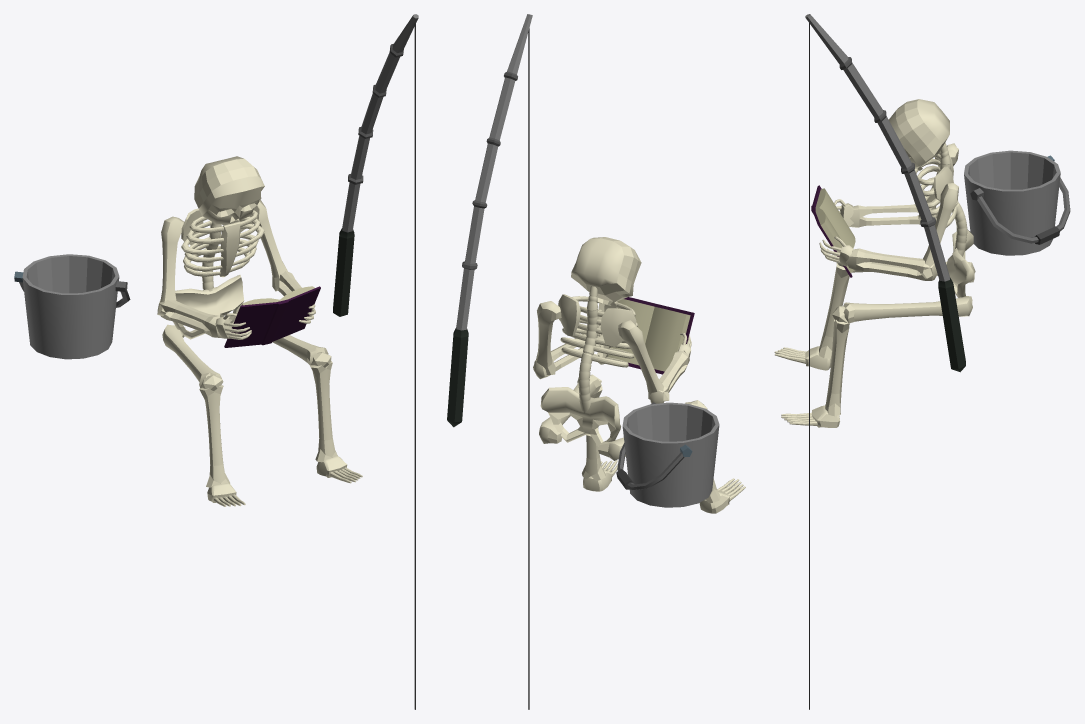
The model's file is Pescador3.fbx.
The picture shows the model from 3 angles, left to right: view 1: azimuth 30°, elevation 25°; view 2: azimuth 150°, elevation 25°; view 3: azimuth 270°, elevation 25°; orthographic projection.
Visible parts, largest first — view 1: Pescador3; view 2: Pescador3; view 3: Pescador3.
Boxes of the visible parts, bbox=[...] form: Pescador3: bbox=[14, 14, 418, 709]; Pescador3: bbox=[447, 14, 745, 709]; Pescador3: bbox=[774, 14, 1070, 709].
Size of the model in its own units: 126 by 286 by 110.
